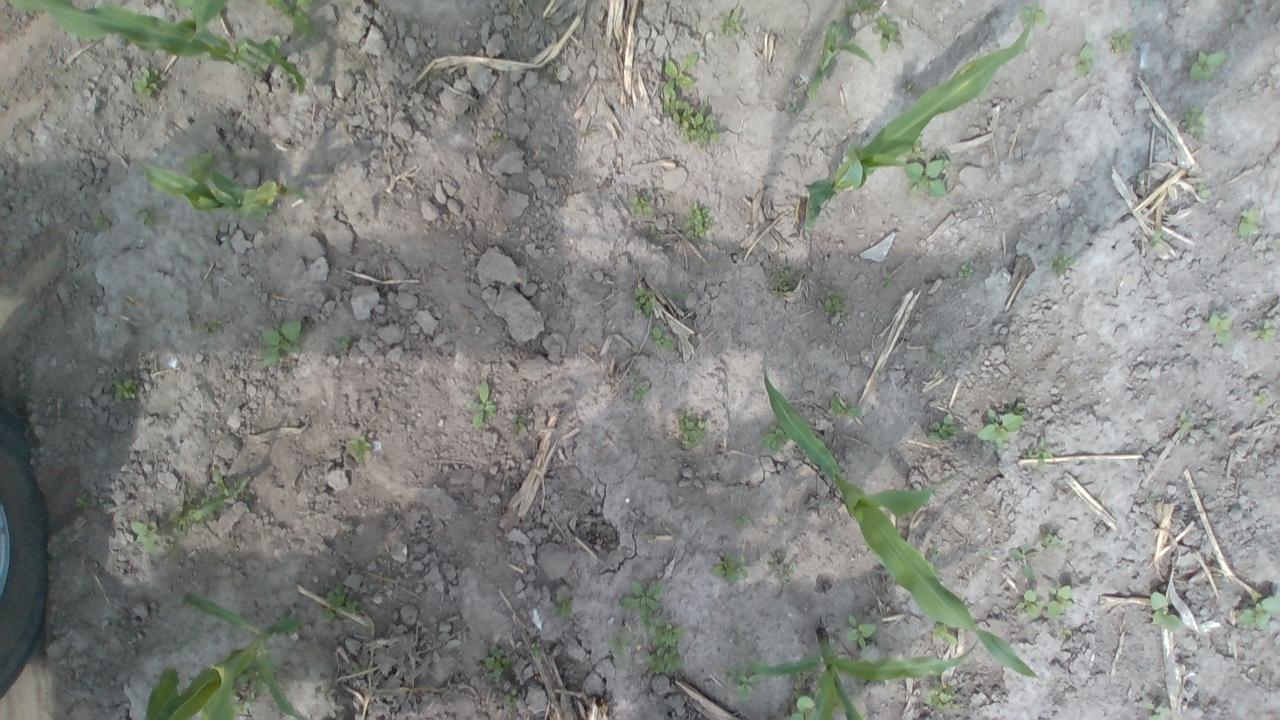Maize: (763, 361, 1040, 678), (798, 11, 1034, 232), (14, 0, 306, 95), (745, 626, 981, 720), (142, 594, 312, 720), (138, 161, 312, 220), (801, 19, 876, 102)
Weeds: (165, 468, 253, 532), (662, 91, 722, 149), (977, 402, 1027, 447), (904, 149, 949, 199), (644, 620, 684, 676), (262, 320, 304, 365), (622, 580, 662, 626), (268, 1, 312, 38), (1235, 593, 1280, 629), (664, 52, 700, 97), (468, 380, 497, 428), (1149, 592, 1182, 632), (1009, 539, 1041, 579), (234, 671, 264, 713), (1189, 49, 1227, 81), (684, 200, 714, 240), (922, 684, 961, 714), (326, 586, 358, 622), (846, 614, 877, 649), (677, 412, 707, 448), (726, 665, 760, 696), (133, 66, 168, 96), (1203, 310, 1233, 344), (484, 645, 512, 681), (766, 551, 796, 584), (710, 556, 748, 582), (131, 520, 160, 554), (183, 153, 217, 182), (822, 289, 848, 326), (1017, 585, 1044, 620), (874, 15, 900, 50), (930, 413, 960, 443), (1048, 584, 1074, 618), (830, 394, 861, 422), (784, 693, 816, 720), (1024, 436, 1052, 466), (1180, 107, 1207, 138), (762, 424, 787, 455), (1018, 0, 1048, 25), (772, 264, 794, 298), (1238, 207, 1262, 238), (608, 628, 630, 660), (110, 378, 140, 401), (1110, 28, 1136, 54), (1076, 42, 1095, 77), (718, 9, 742, 36), (633, 286, 657, 313), (347, 436, 372, 461), (1250, 319, 1276, 343), (651, 328, 676, 352), (1050, 252, 1076, 275), (932, 624, 958, 646), (1146, 702, 1176, 720), (846, 0, 878, 15), (631, 194, 652, 216), (92, 210, 111, 234), (668, 286, 689, 306), (1144, 229, 1164, 248), (202, 318, 223, 336), (556, 596, 574, 616), (136, 206, 156, 224), (1178, 412, 1192, 437), (504, 689, 520, 710), (1041, 532, 1061, 548), (926, 339, 941, 360), (74, 492, 92, 509), (634, 382, 648, 403), (334, 334, 352, 350), (511, 413, 526, 432), (912, 136, 925, 157), (881, 272, 898, 288), (1254, 391, 1270, 407), (786, 102, 804, 116), (1057, 624, 1072, 640), (734, 514, 749, 528), (958, 264, 973, 278), (530, 642, 542, 658), (628, 367, 642, 380), (1144, 492, 1156, 507), (1198, 184, 1210, 198), (351, 662, 364, 674), (491, 132, 502, 142), (650, 227, 659, 236)
